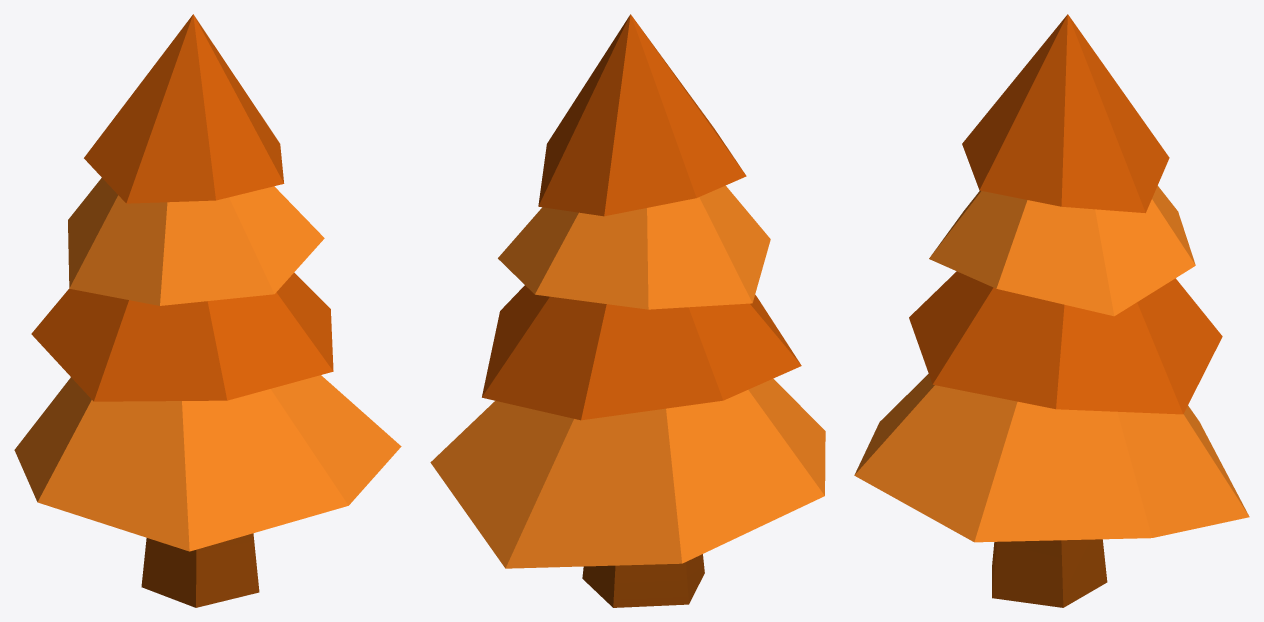
Rendered from Tree_25_Fall.fbx.
3 views of the same model, side by side, from view 1: azimuth 30°, elevation 25°; view 2: azimuth 150°, elevation 25°; view 3: azimuth 270°, elevation 25° (orthographic). The views are drawn at different scales.
Visible parts, largest first — view 1: Tree_25_p2_Fall, Tree_25_p1_Fall; view 2: Tree_25_p2_Fall, Tree_25_p1_Fall; view 3: Tree_25_p2_Fall, Tree_25_p1_Fall.
Boxes of the visible parts, box(x1,y1,x2,y2) form: Tree_25_p2_Fall: box(14, 14, 401, 551); Tree_25_p1_Fall: box(141, 533, 259, 607); Tree_25_p2_Fall: box(430, 14, 825, 568); Tree_25_p1_Fall: box(582, 554, 704, 607); Tree_25_p2_Fall: box(854, 14, 1249, 542); Tree_25_p1_Fall: box(992, 539, 1107, 607).
Bounding box in the file's own units: 151 × 242 × 152.
